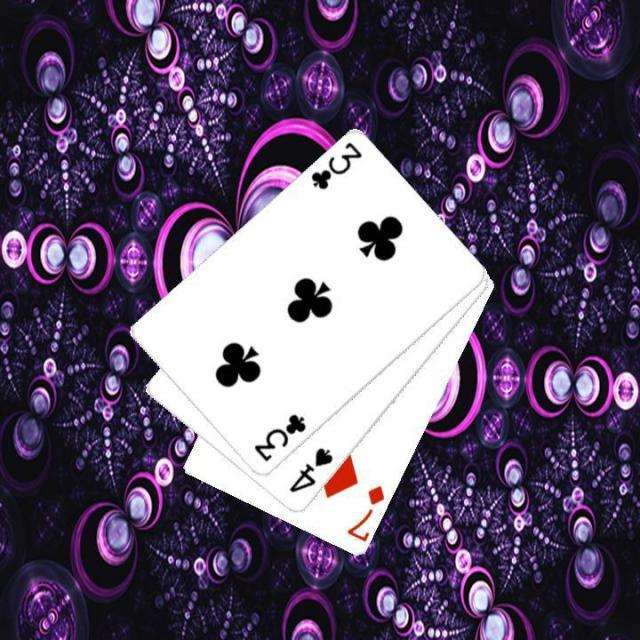3C: (250, 410, 308, 464), (307, 138, 365, 192)
4S: (285, 444, 335, 496)
7D: (342, 482, 386, 544)
